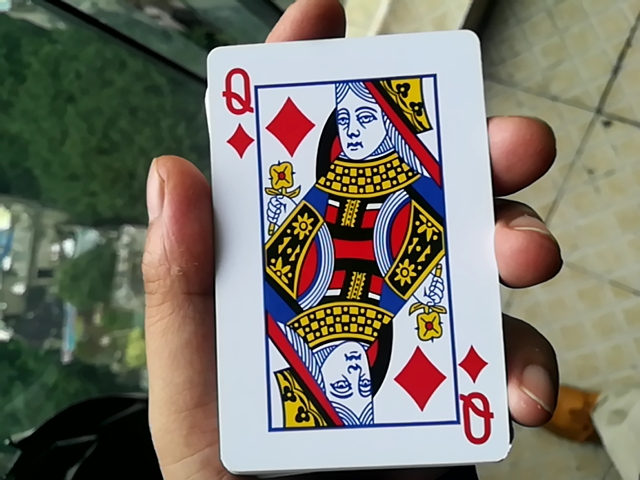fk q: (195, 36, 519, 478)
